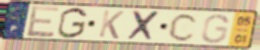C: (167, 12, 200, 43)
E: (26, 5, 62, 38)
G: (56, 6, 90, 40), (200, 13, 231, 45)
K: (97, 9, 126, 41)
X: (125, 10, 162, 43)
